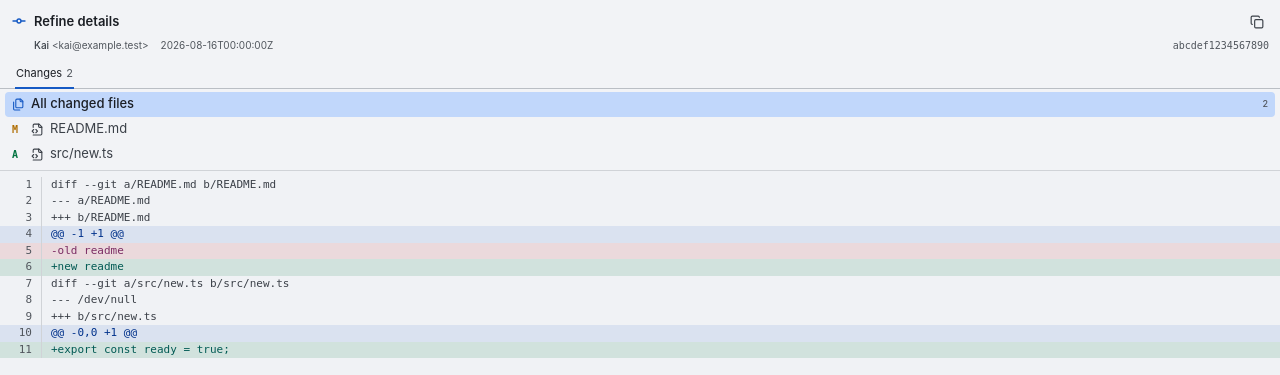
Test case: CommitPanel › filters the preview to a selected changed file and restores all files
Check: the element named "Commit patch" shows "old readme", box [51,244,124,256]
Check: the element named "Commit patch" shows "ready = true", box [51,342,230,356]
Click the button with class "detail-file" showing "A src/new.ts". click: coordinates (82, 153)
box: [5,142,1275,166]
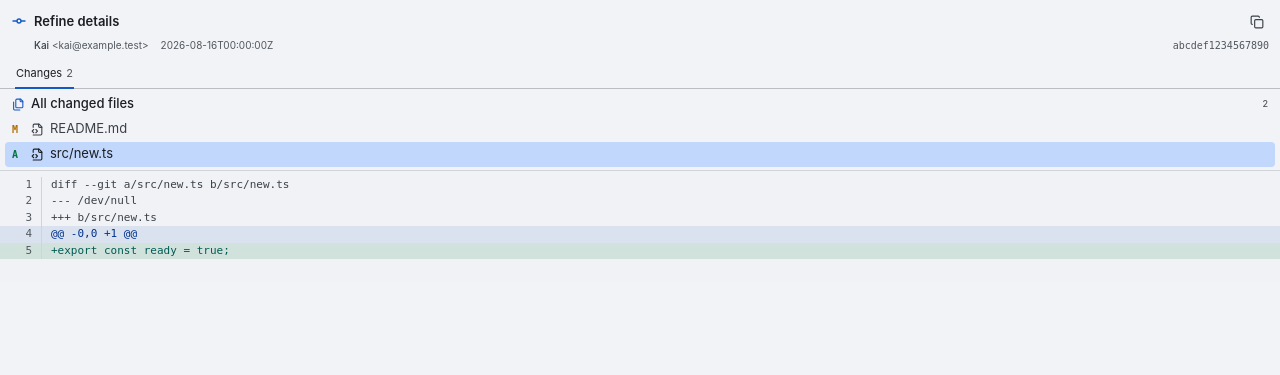
Check: the element named "Commit patch" shows "ready = true", box [51,244,230,256]
Check: the text "old readme" is gone
Click the button with class "detail-file" showing "All changed files 2". click: coordinates (83, 103)
box: [5,92,1275,116]
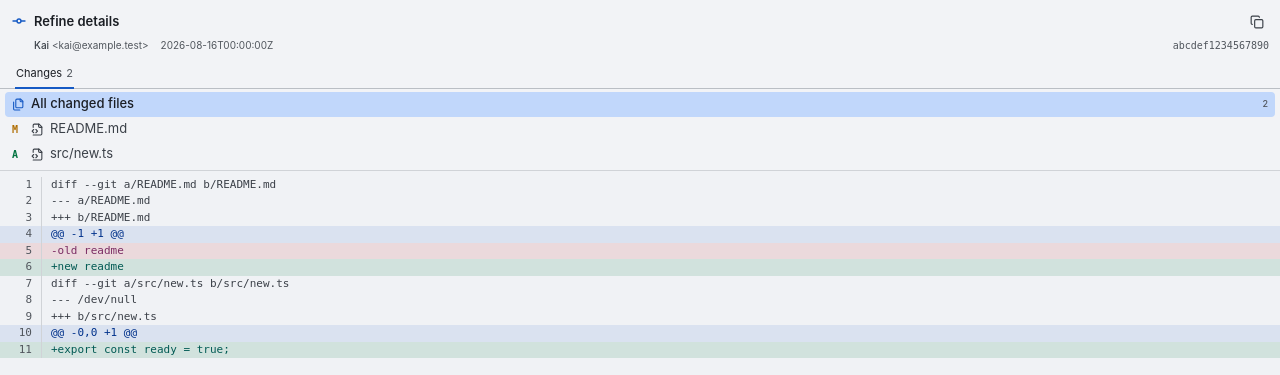
Check: the element named "Commit patch" shows "old readme", box [51,244,124,256]
